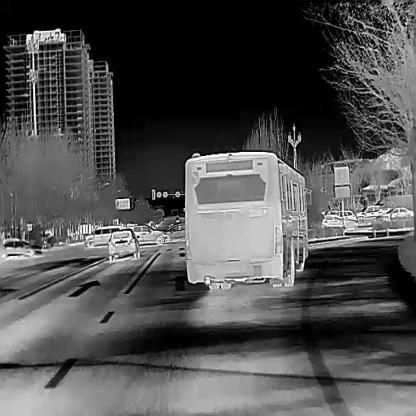car: (184, 150, 312, 290), (107, 226, 140, 260), (84, 223, 128, 247), (127, 224, 170, 245), (1, 238, 35, 258), (319, 214, 358, 230), (356, 204, 390, 220), (379, 205, 414, 220), (162, 223, 185, 237), (332, 210, 356, 223)
